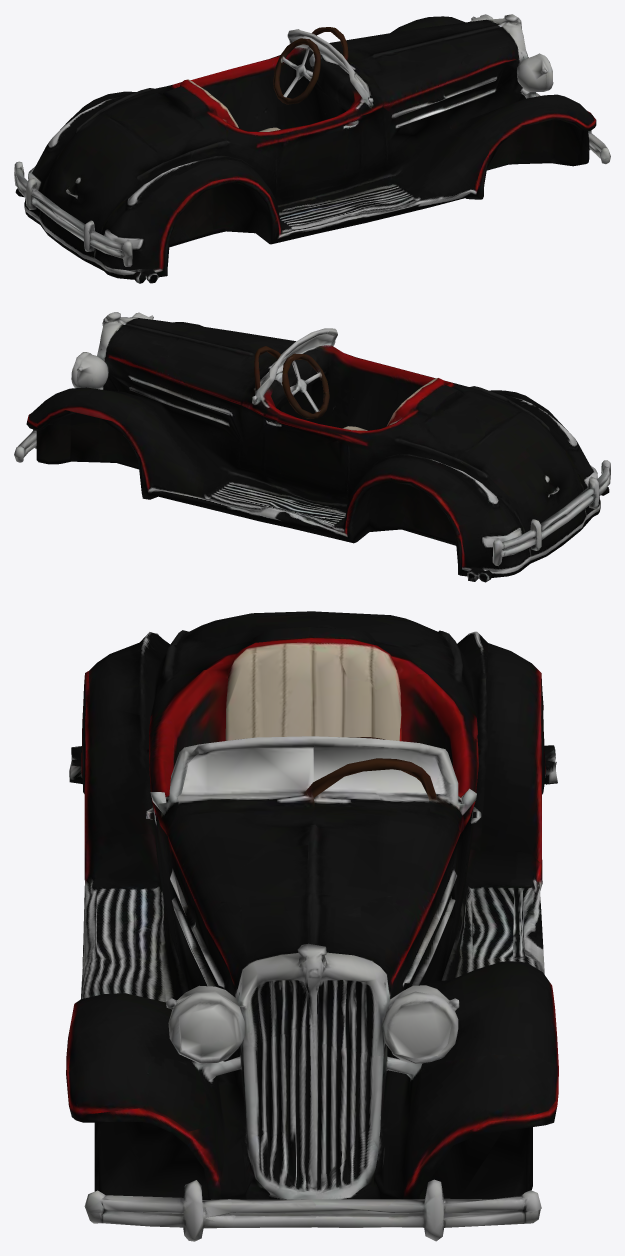
File: body.glb
3 views of the same model, one above another, from view 1: azimuth 30°, elevation 25°; view 2: azimuth 150°, elevation 25°; view 3: azimuth 270°, elevation 25° (orthographic). The views are drawn at different scales.
Parts seen in each view (by area): view 1: tripo_node_1b85863f-b010-42d0-a293-317dfcd967da; view 2: tripo_node_1b85863f-b010-42d0-a293-317dfcd967da; view 3: tripo_node_1b85863f-b010-42d0-a293-317dfcd967da.
Part boxes in pixels (x1,y1,x2,y2): tripo_node_1b85863f-b010-42d0-a293-317dfcd967da: (14, 14, 610, 283); tripo_node_1b85863f-b010-42d0-a293-317dfcd967da: (14, 312, 610, 582); tripo_node_1b85863f-b010-42d0-a293-317dfcd967da: (66, 611, 558, 1241).
Size of the model in its own units: 0.9992 by 0.2653 by 0.4211.
Materials: 1 (1 with a texture image).
